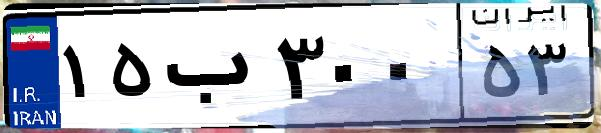0: (385, 28, 445, 110), (330, 28, 385, 110)
1: (57, 26, 110, 100)
3: (270, 28, 330, 110), (525, 38, 570, 115)
5: (475, 38, 525, 113), (110, 28, 158, 98)
ب: (158, 20, 270, 120)
